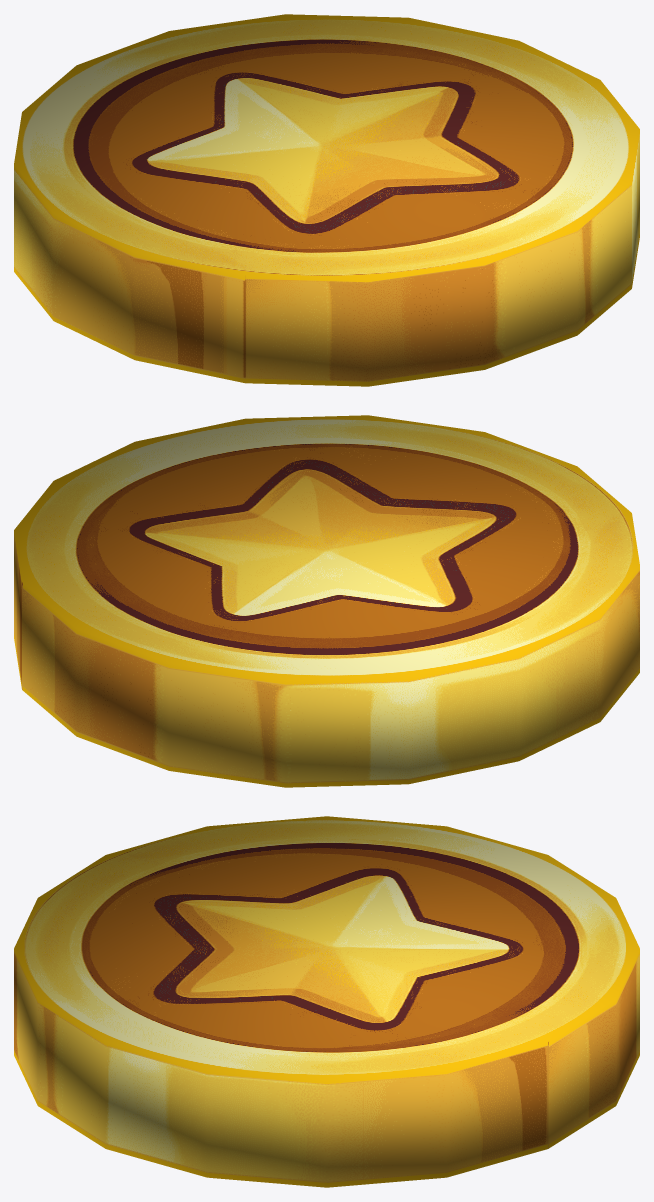
File: CoinA.fbx
3 renders of one model, top to bottom at view 1: azimuth 30°, elevation 25°; view 2: azimuth 150°, elevation 25°; view 3: azimuth 270°, elevation 25°, orthographic.
Parts seen in each view (by area): view 1: CoinA; view 2: CoinA; view 3: CoinA.
Boxes of the visible parts, <box> form: CoinA: <box>14,14,639,386</box>; CoinA: <box>14,415,639,787</box>; CoinA: <box>14,816,639,1187</box>.
Size of the model in its own units: 0.4245 by 0.4245 by 0.08.
